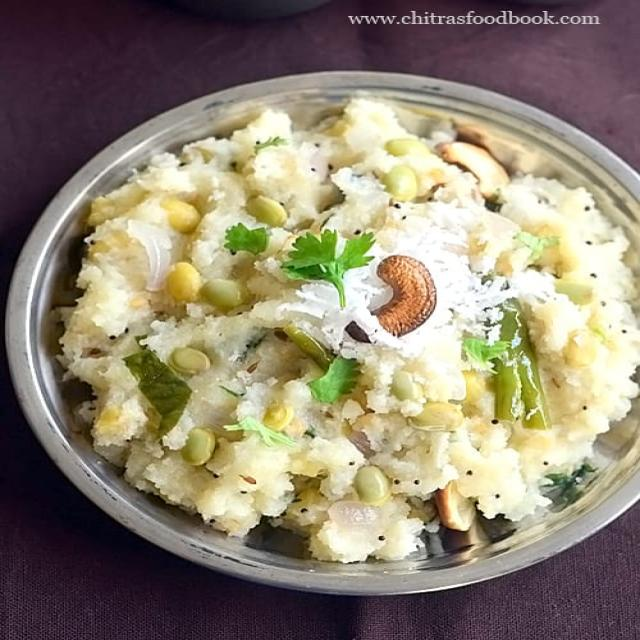upma: (33, 80, 640, 586)
